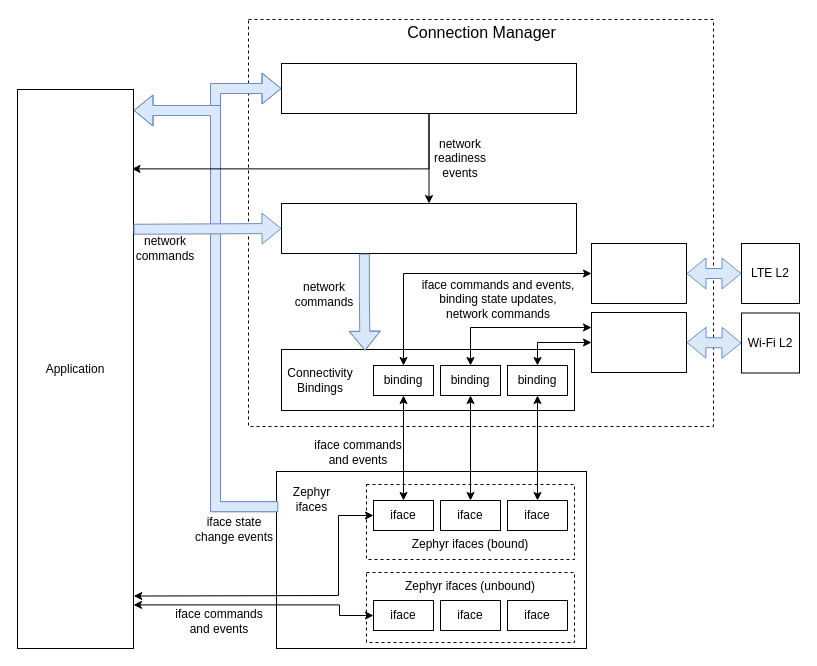
The diagram is 817 pixels wide and 666 high, and some of its shapes have lost their labels. Here are the shapes that lost their labels. From the top down, the centre of each, then its label:
point (428, 88): Connectivity Monitoring
point (428, 228): Connectivity Control
point (638, 273): Connectivity Implementation (LTE)
point (638, 342): Connectivity Implementation (Wi-Fi)
